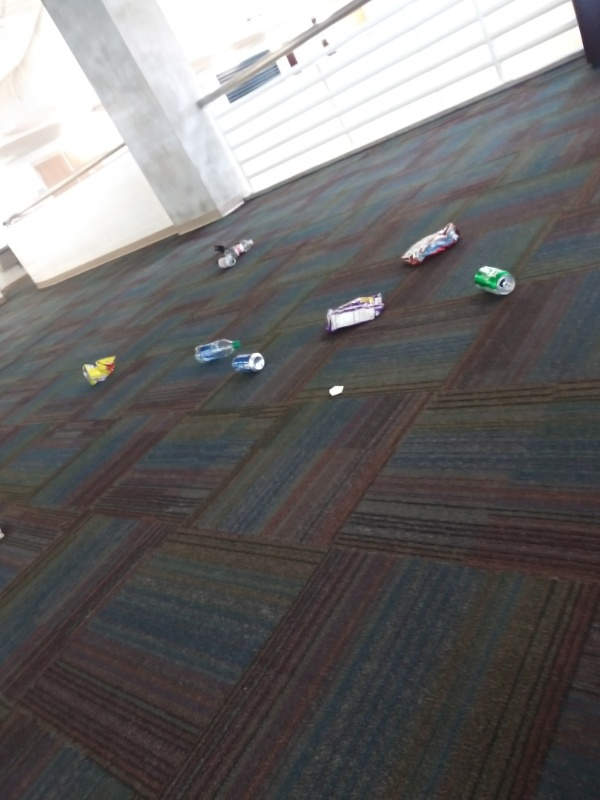bag: (396, 215, 464, 268), (320, 289, 388, 339), (77, 353, 122, 392)
bottle: (191, 333, 243, 368), (224, 232, 261, 256)
can: (468, 264, 515, 299), (228, 349, 268, 376), (214, 252, 238, 274)
